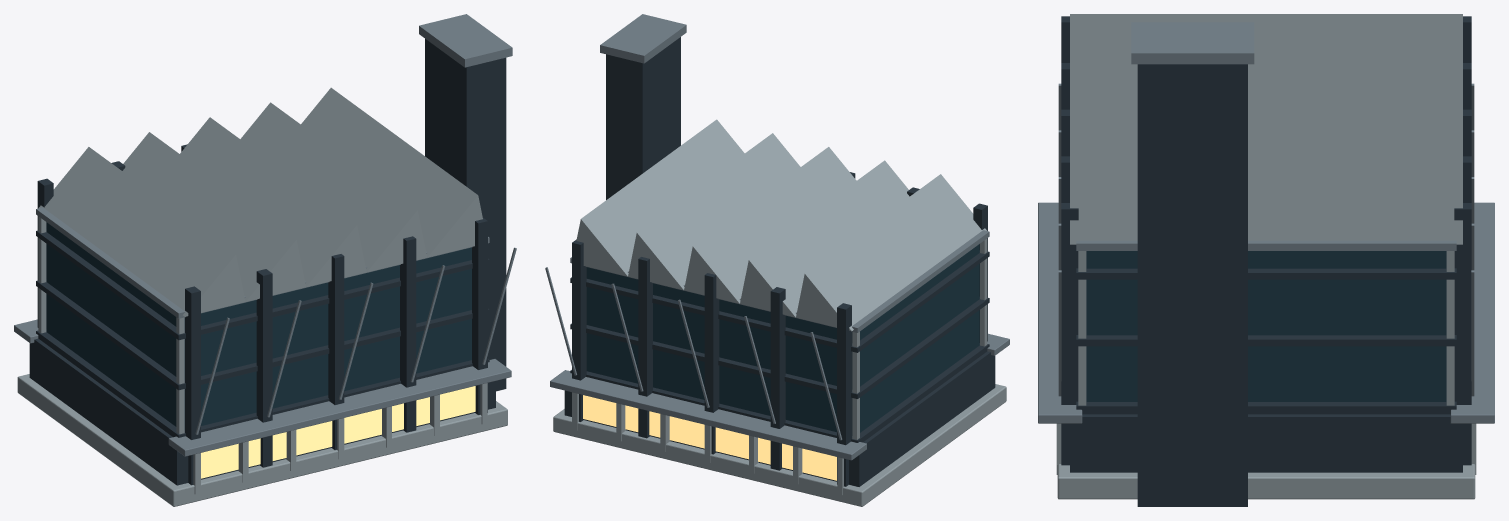
The model's file is vrx_city_works_a_LOD0.fbx.
3 views of the same model, side by side, from view 1: azimuth 30°, elevation 25°; view 2: azimuth 150°, elevation 25°; view 3: azimuth 270°, elevation 25° (orthographic). The views are drawn at different scales.
Visible parts, largest first — view 1: vrx_city_works_a_LOD0; view 2: vrx_city_works_a_LOD0; view 3: vrx_city_works_a_LOD0.
Boxes of the visible parts, x1,y1,x2,y2 form: vrx_city_works_a_LOD0: (14,14,516,506); vrx_city_works_a_LOD0: (545,14,1009,506); vrx_city_works_a_LOD0: (1038,14,1494,506).
Size of the model in its own units: 46 by 42 by 37.2.
